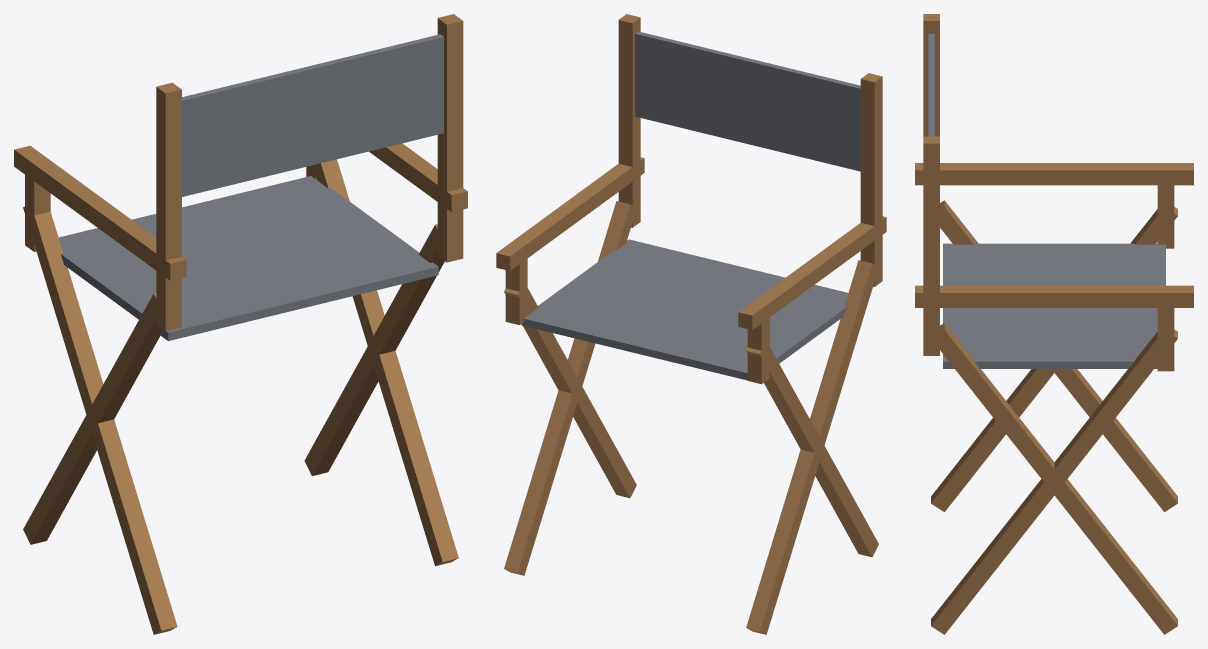
The model's file is chair-director.obj.
3 renders of one model, left to right at view 1: azimuth 30°, elevation 25°; view 2: azimuth 150°, elevation 25°; view 3: azimuth 270°, elevation 25°, orthographic. The views are drawn at different scales.
Parts seen in each view (by area): view 1: chair-director_10, chair-director_11, chair-director_1, chair-director_6, chair-director_0, chair-director_5, chair-director_3, chair-director_8, chair-director_2, chair-director_7, chair-director_4; view 2: chair-director_10, chair-director_11, chair-director_0, chair-director_5, chair-director_1, chair-director_6, chair-director_3, chair-director_7, chair-director_2, chair-director_8, chair-director_9, chair-director_4; view 3: chair-director_10, chair-director_5, chair-director_6, chair-director_7, chair-director_2, chair-director_1, chair-director_0, chair-director_8, chair-director_3, chair-director_9, chair-director_4, chair-director_11.
Boxes of the visible parts, x1,y1,x2,y2 form: chair-director_10: (58,176,438,340); chair-director_11: (182,34,443,196); chair-director_1: (23,206,177,634); chair-director_6: (313,159,458,566); chair-director_0: (23,293,161,544); chair-director_5: (304,224,444,475); chair-director_3: (156,82,181,331); chair-director_8: (437,14,463,262); chair-director_2: (14,145,186,280); chair-director_7: (369,143,467,211); chair-director_4: (25,166,50,251); chair-director_10: (521,239,848,380); chair-director_11: (635,31,860,171); chair-director_0: (746,260,874,634); chair-director_5: (504,201,636,575); chair-director_1: (746,341,878,557); chair-director_6: (504,282,636,498); chair-director_3: (860,73,882,286); chair-director_7: (496,157,644,270); chair-director_2: (738,216,886,330); chair-director_8: (618,14,640,227); chair-director_9: (505,251,527,324); chair-director_4: (747,318,769,384); chair-director_10: (943,243,1165,368); chair-director_5: (931,323,1177,634); chair-director_6: (931,329,1177,634); chair-director_7: (915,285,1193,307); chair-director_2: (915,163,1193,185); chair-director_1: (931,207,1177,511); chair-director_0: (940,200,1177,511); chair-director_8: (923,136,939,355); chair-director_3: (923,14,939,136); chair-director_9: (1157,300,1174,371); chair-director_4: (1157,183,1174,248); chair-director_11: (928,33,934,136).
Size of the model in its own units: 0.55 by 0.9717 by 0.5.
